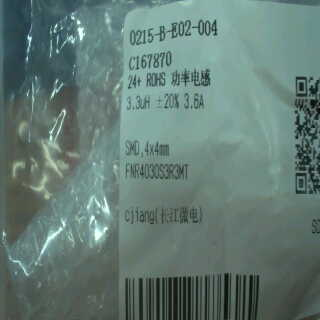3.3uH: (123, 92, 155, 119)
